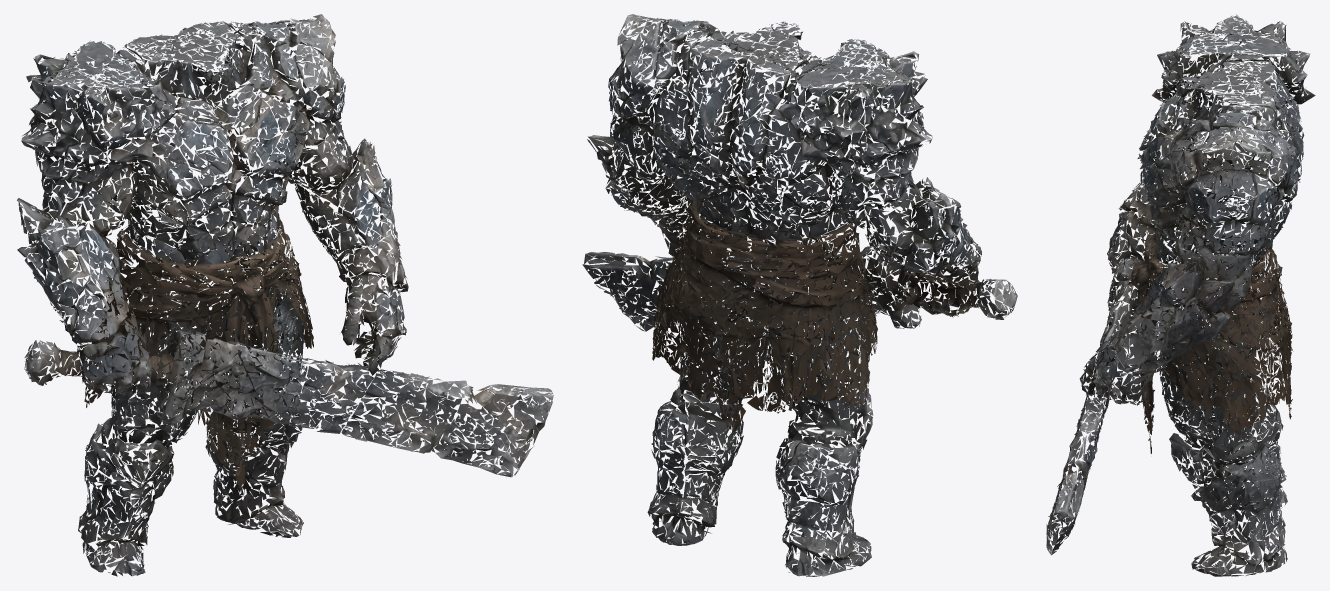
Rendered from elite_stone.glb.
3 views of the same model, side by side, from view 1: azimuth 30°, elevation 25°; view 2: azimuth 150°, elevation 25°; view 3: azimuth 270°, elevation 25° (orthographic). The views are drawn at different scales.
Parts seen in each view (by area): view 1: tripo_node_33572e41-ab57-4945-9ae5-6cbf21b15730; view 2: tripo_node_33572e41-ab57-4945-9ae5-6cbf21b15730; view 3: tripo_node_33572e41-ab57-4945-9ae5-6cbf21b15730.
Part boxes in pixels (left/top/right/bottom): tripo_node_33572e41-ab57-4945-9ae5-6cbf21b15730: left=17, top=14, right=553, bottom=576; tripo_node_33572e41-ab57-4945-9ae5-6cbf21b15730: left=582, top=14, right=1017, bottom=576; tripo_node_33572e41-ab57-4945-9ae5-6cbf21b15730: left=1046, top=14, right=1315, bottom=576.
Size of the model in its own units: 1.94 by 1.95 by 1.04.
Materials: 1 (1 with a texture image).
